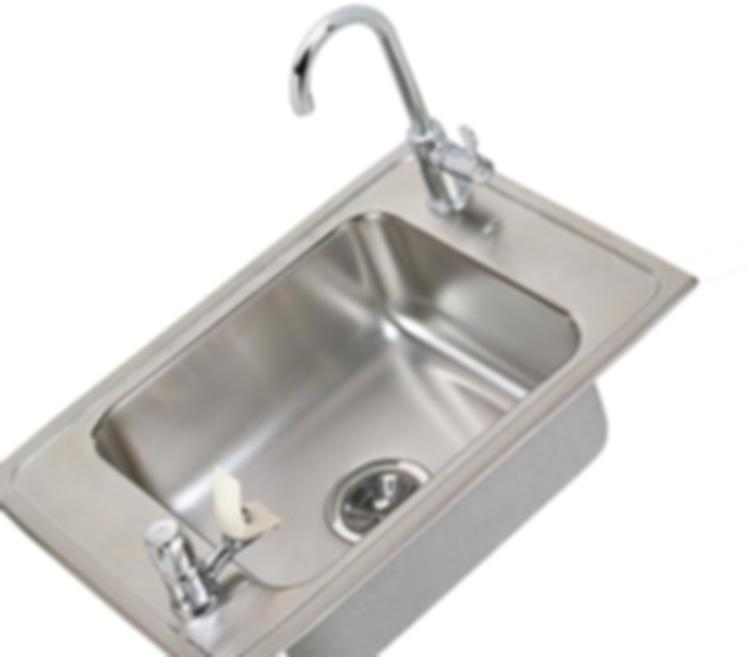Lavaplatos: (17, 27, 677, 641)
